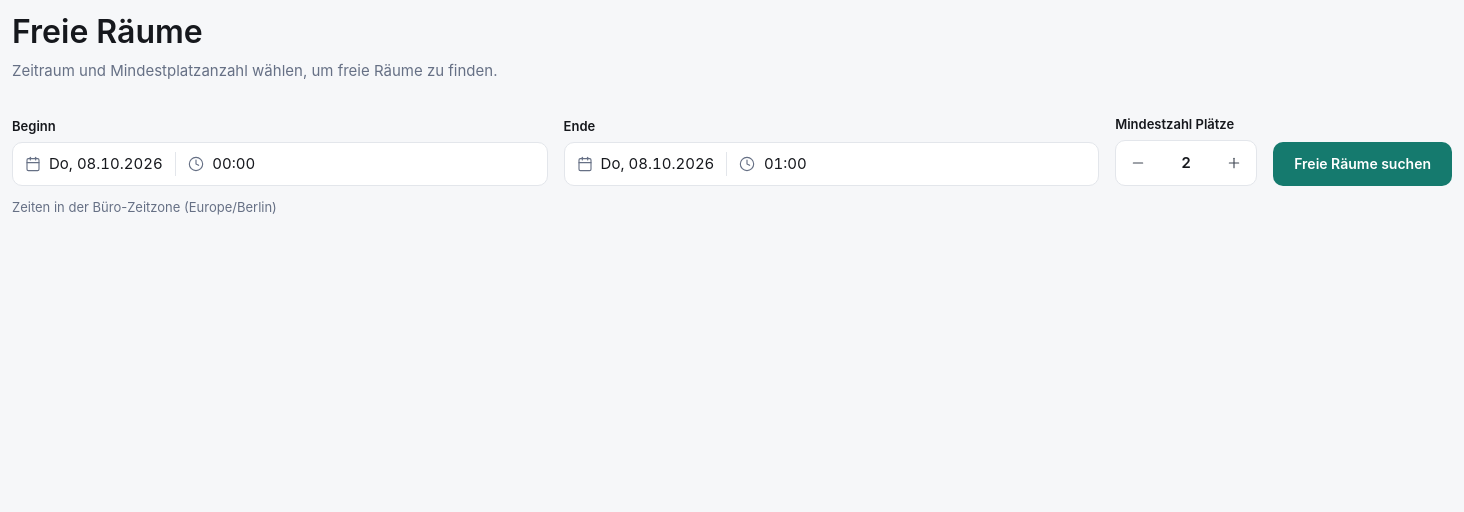
Test case: FreeRoomsPage › shows the empty state when no room matches
In the date field with test id "free-rooms-start-date-input": (280, 164) [12,142,548,186], type "2026-03-11"
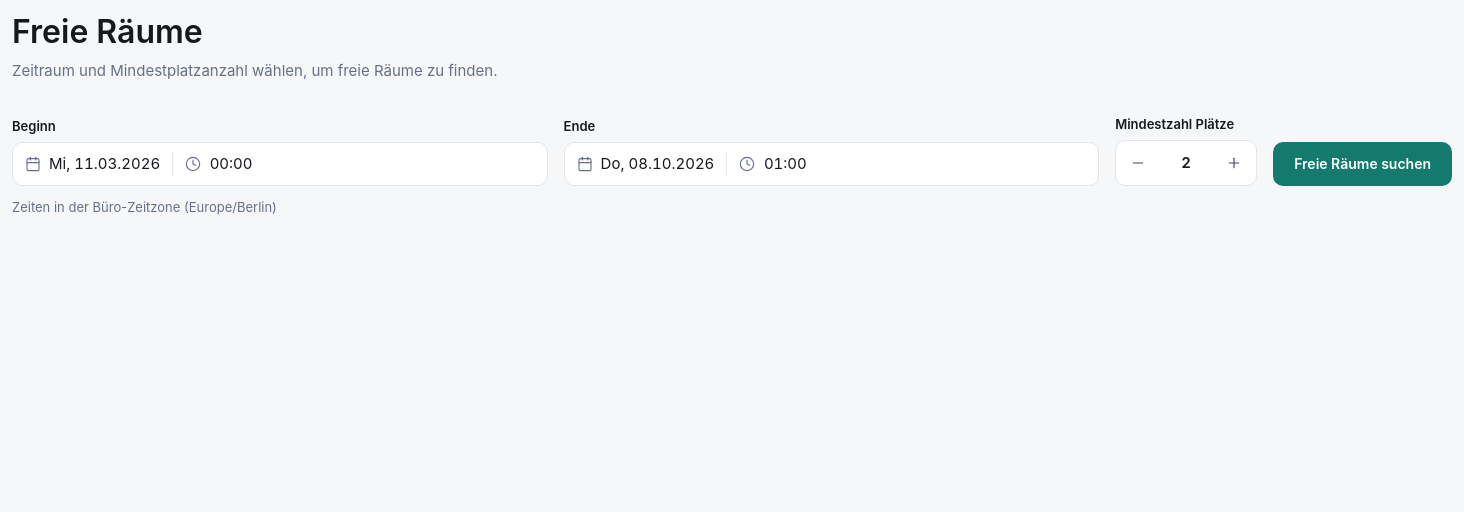
Replace the text in the time field with test id "free-rooms-start-time-input" with "09:00": (280, 164) [12,142,548,186]
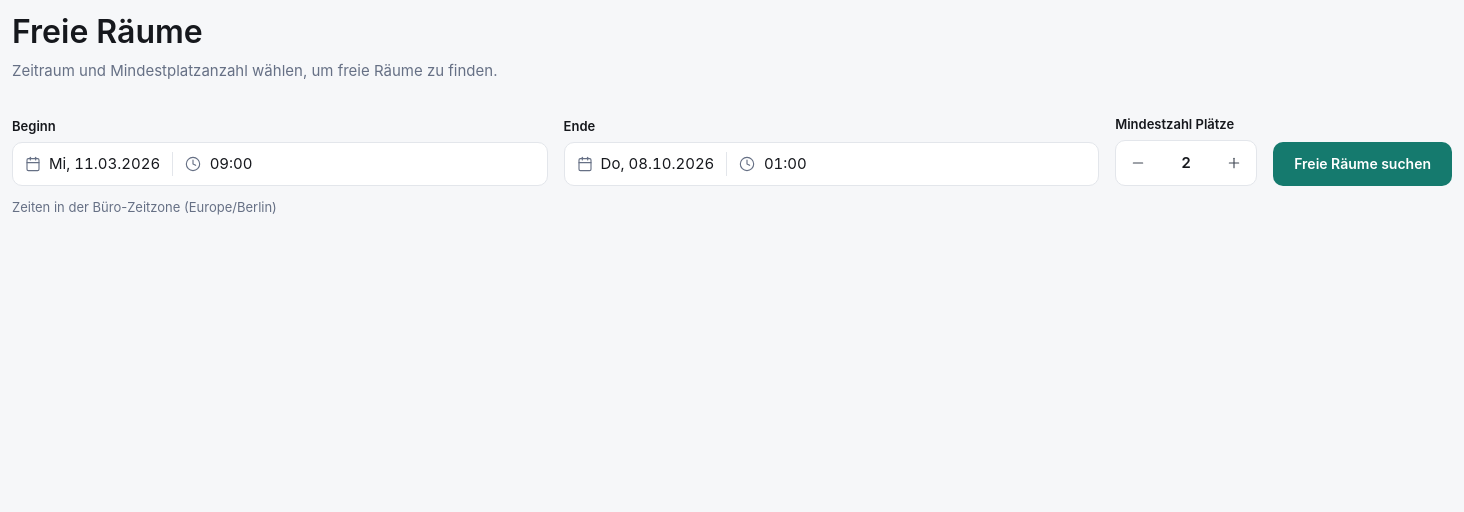
In the date field with test id "free-rooms-end-date-input": (831, 164) [564,142,1099,186], type "2026-03-11"
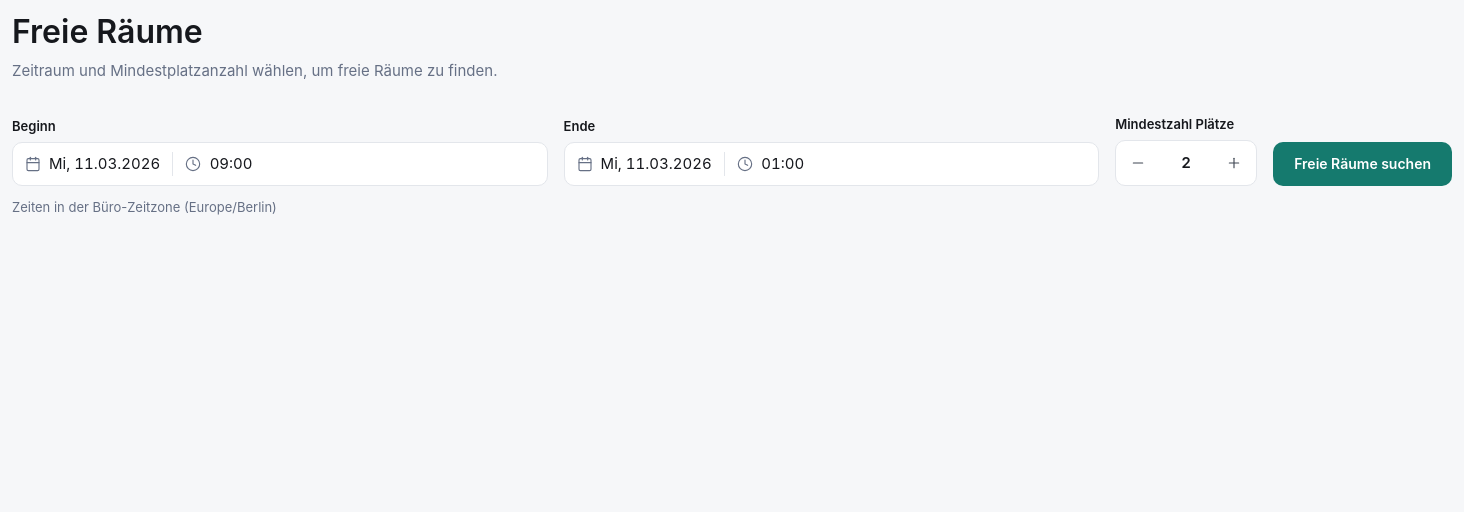
Replace the text in the time field with test id "free-rooms-end-time-input" with "10:00": (831, 164) [564,142,1099,186]
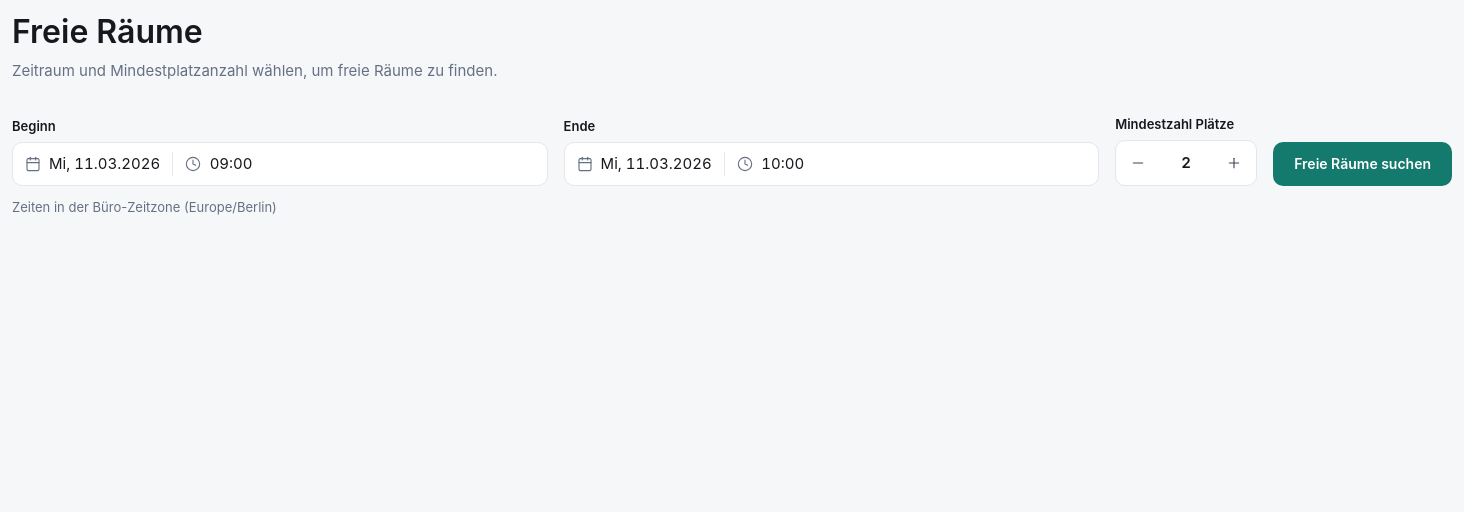
Click the button "Freie Räume suchen": (1363, 164) [1273,142,1452,186]
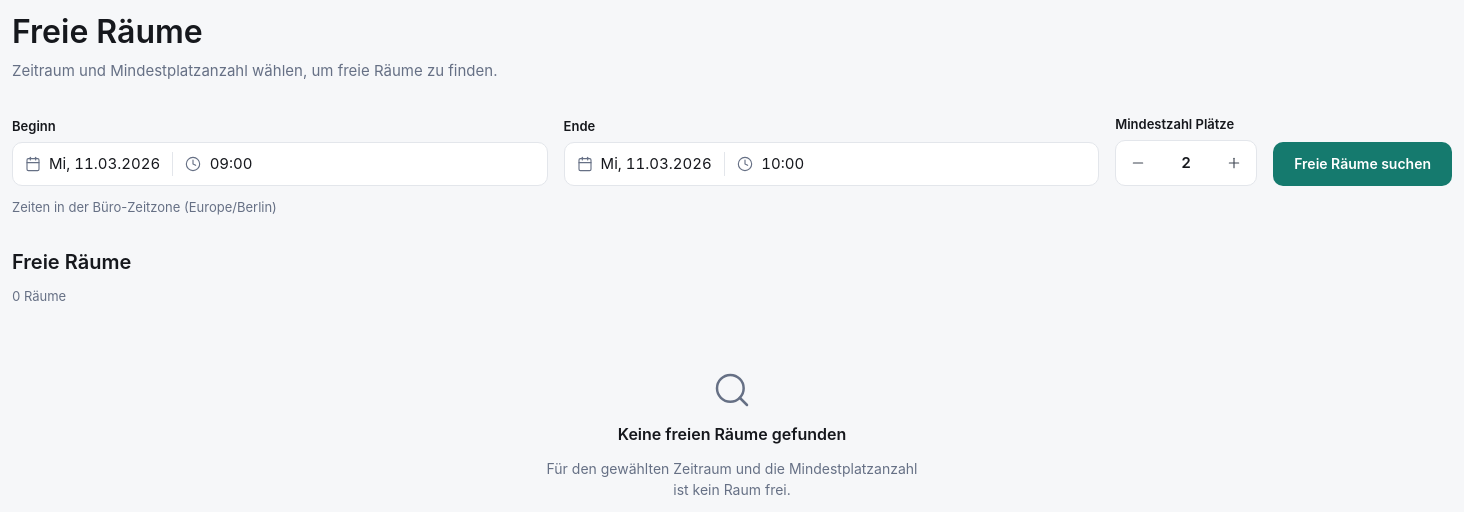
Now the text "Keine freien Räume gefunden" is shown, box [618,422,846,446]
Now the text "0 Räume" is shown, box [12,288,66,304]
